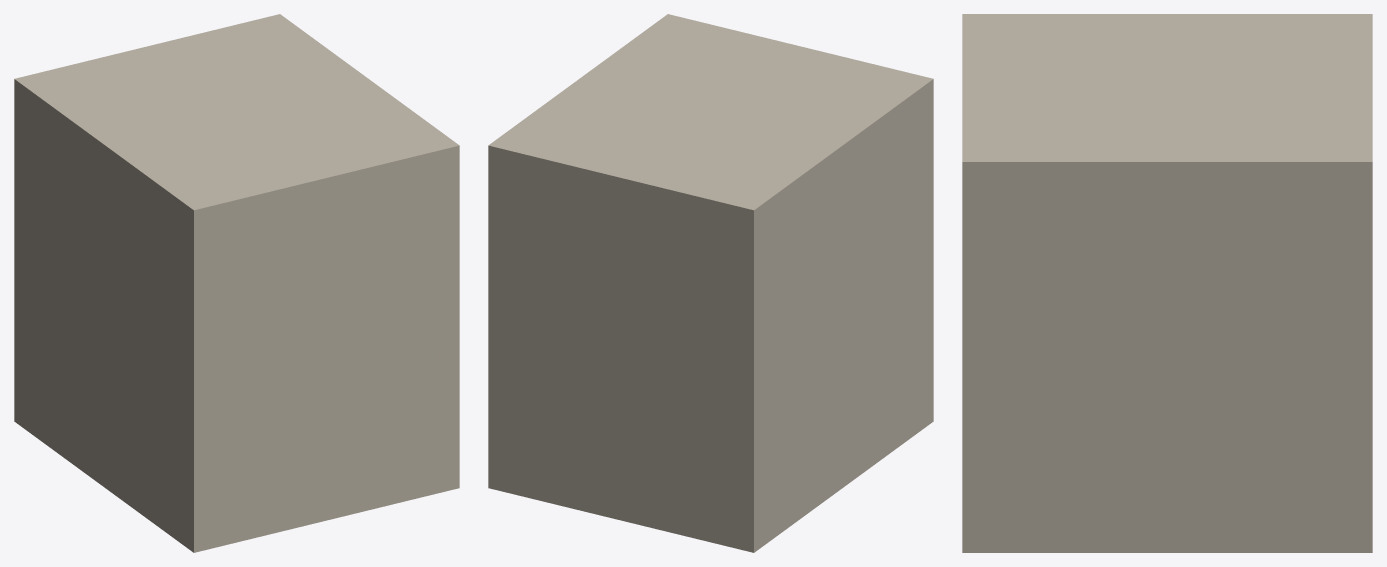
Rendered from ikea-strandmon-50511234-g2-proxy.glb.
3 renders of one model, left to right at view 1: azimuth 30°, elevation 25°; view 2: azimuth 150°, elevation 25°; view 3: azimuth 270°, elevation 25°, orthographic. The views are drawn at different scales.
Parts seen in each view (by area): view 1: proxy_body; view 2: proxy_body; view 3: proxy_body.
Boxes of the visible parts, box(x1,y1,x2,y2) form: proxy_body: box(14, 14, 459, 552); proxy_body: box(488, 14, 933, 552); proxy_body: box(962, 14, 1372, 552).
Size of the model in its own units: 0.82 by 1.01 by 0.96.
